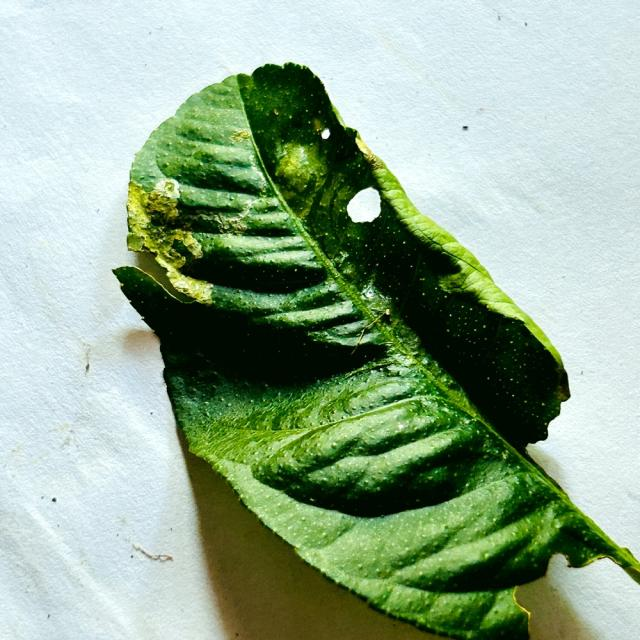Deficiency Leaf: (527, 385, 639, 559), (517, 557, 639, 639), (134, 251, 200, 302), (347, 187, 380, 223), (316, 120, 344, 152)
Lemon: (114, 63, 639, 639)
